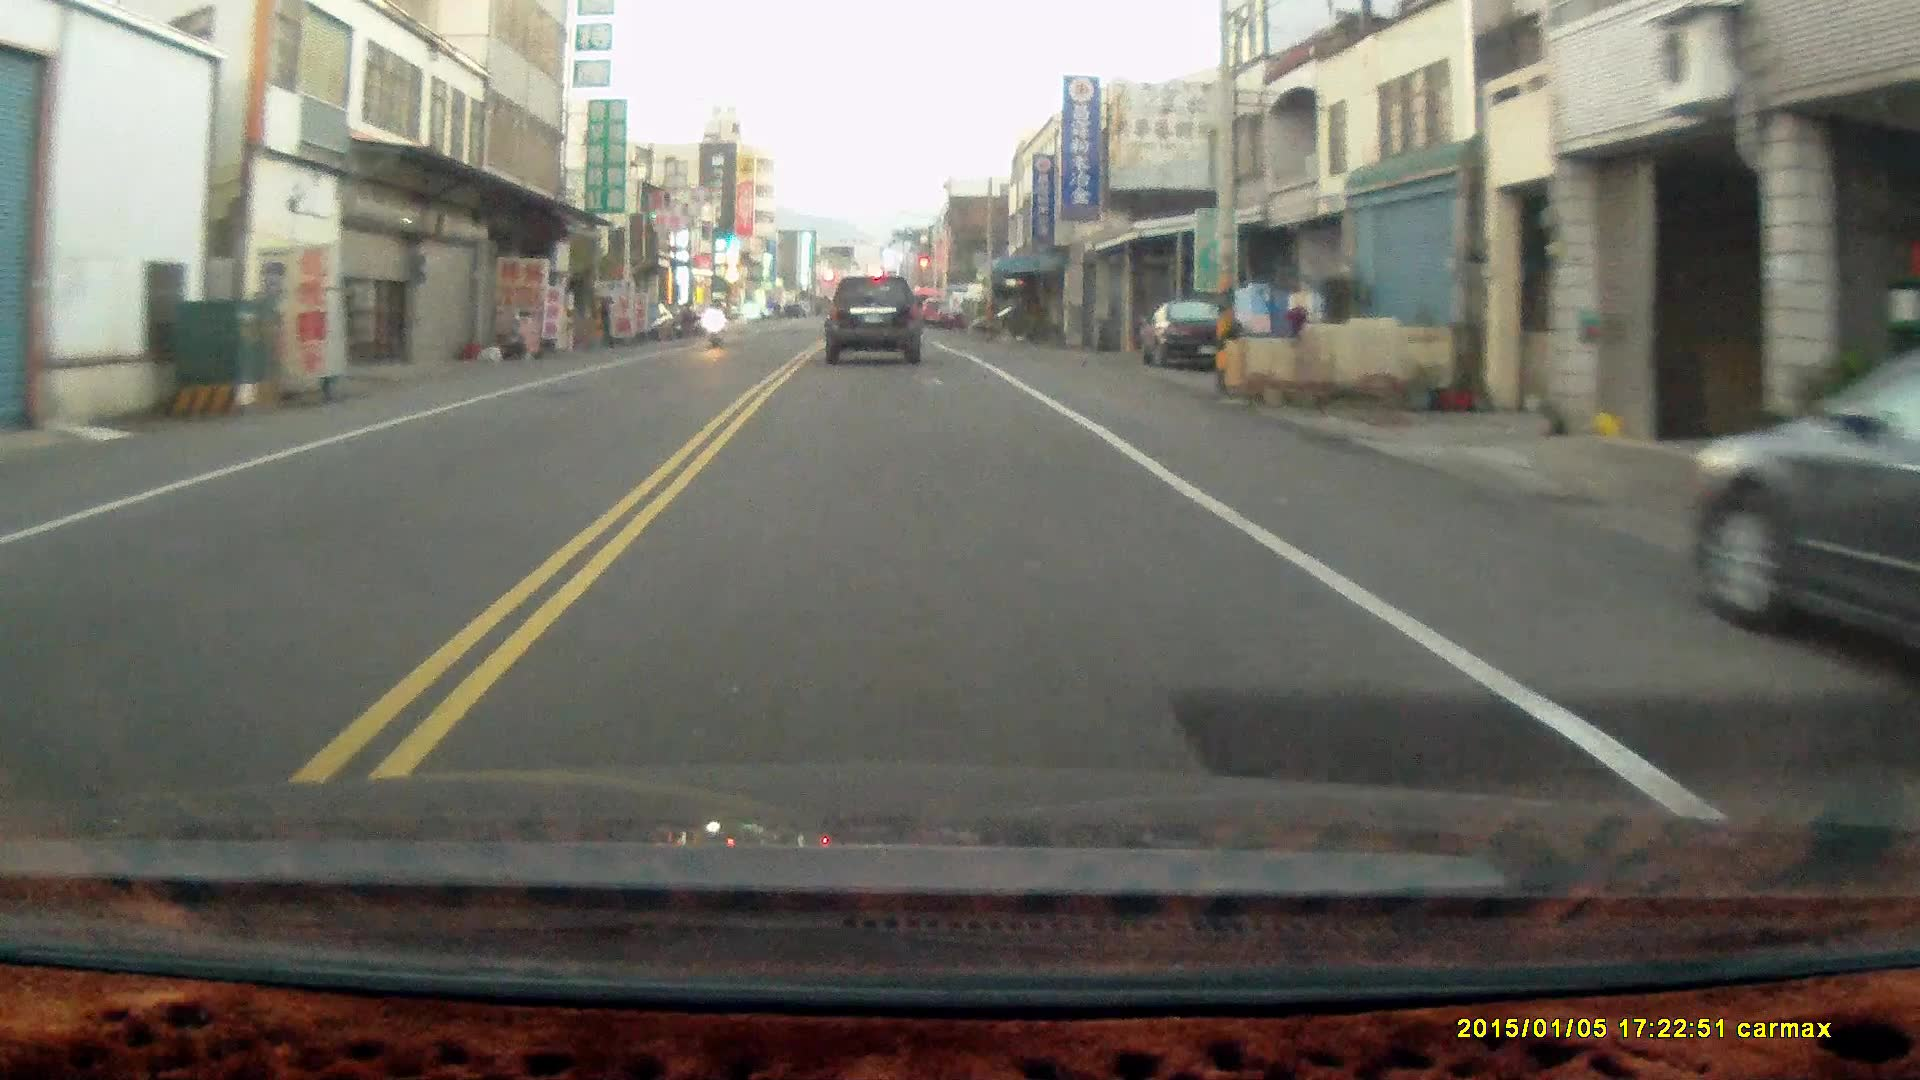pedestrian: (592, 292, 613, 351)
rider: (697, 291, 724, 345)
vehicle: (1686, 340, 1920, 674), (824, 277, 925, 369), (1142, 299, 1252, 376)
